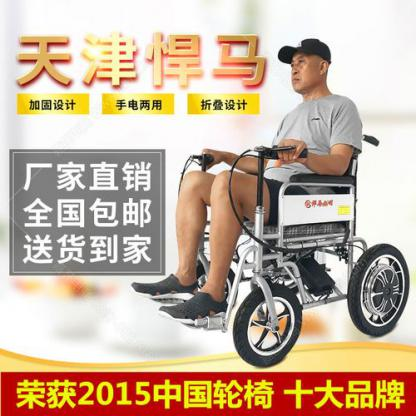wheelchair: (161, 38, 413, 374)
